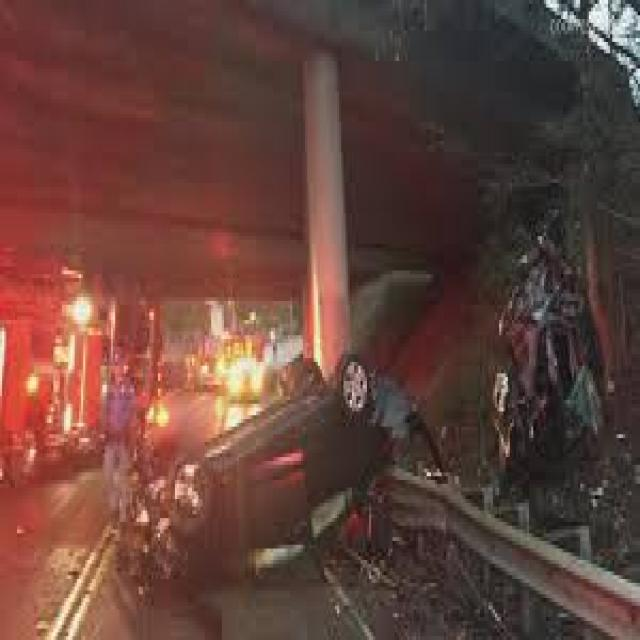accident: (124, 374, 431, 623)
